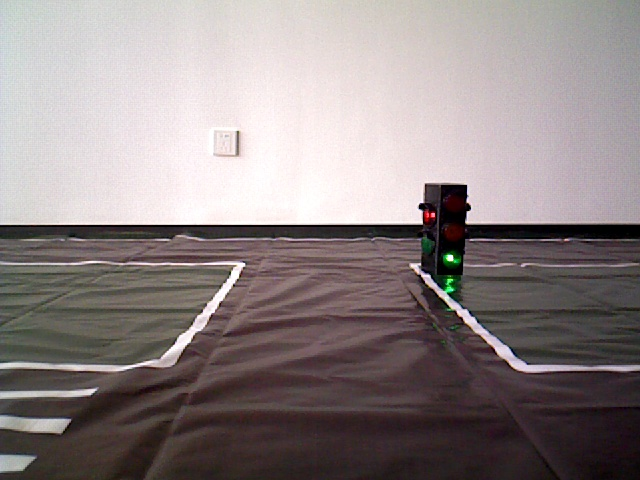green: (424, 185, 463, 269)
